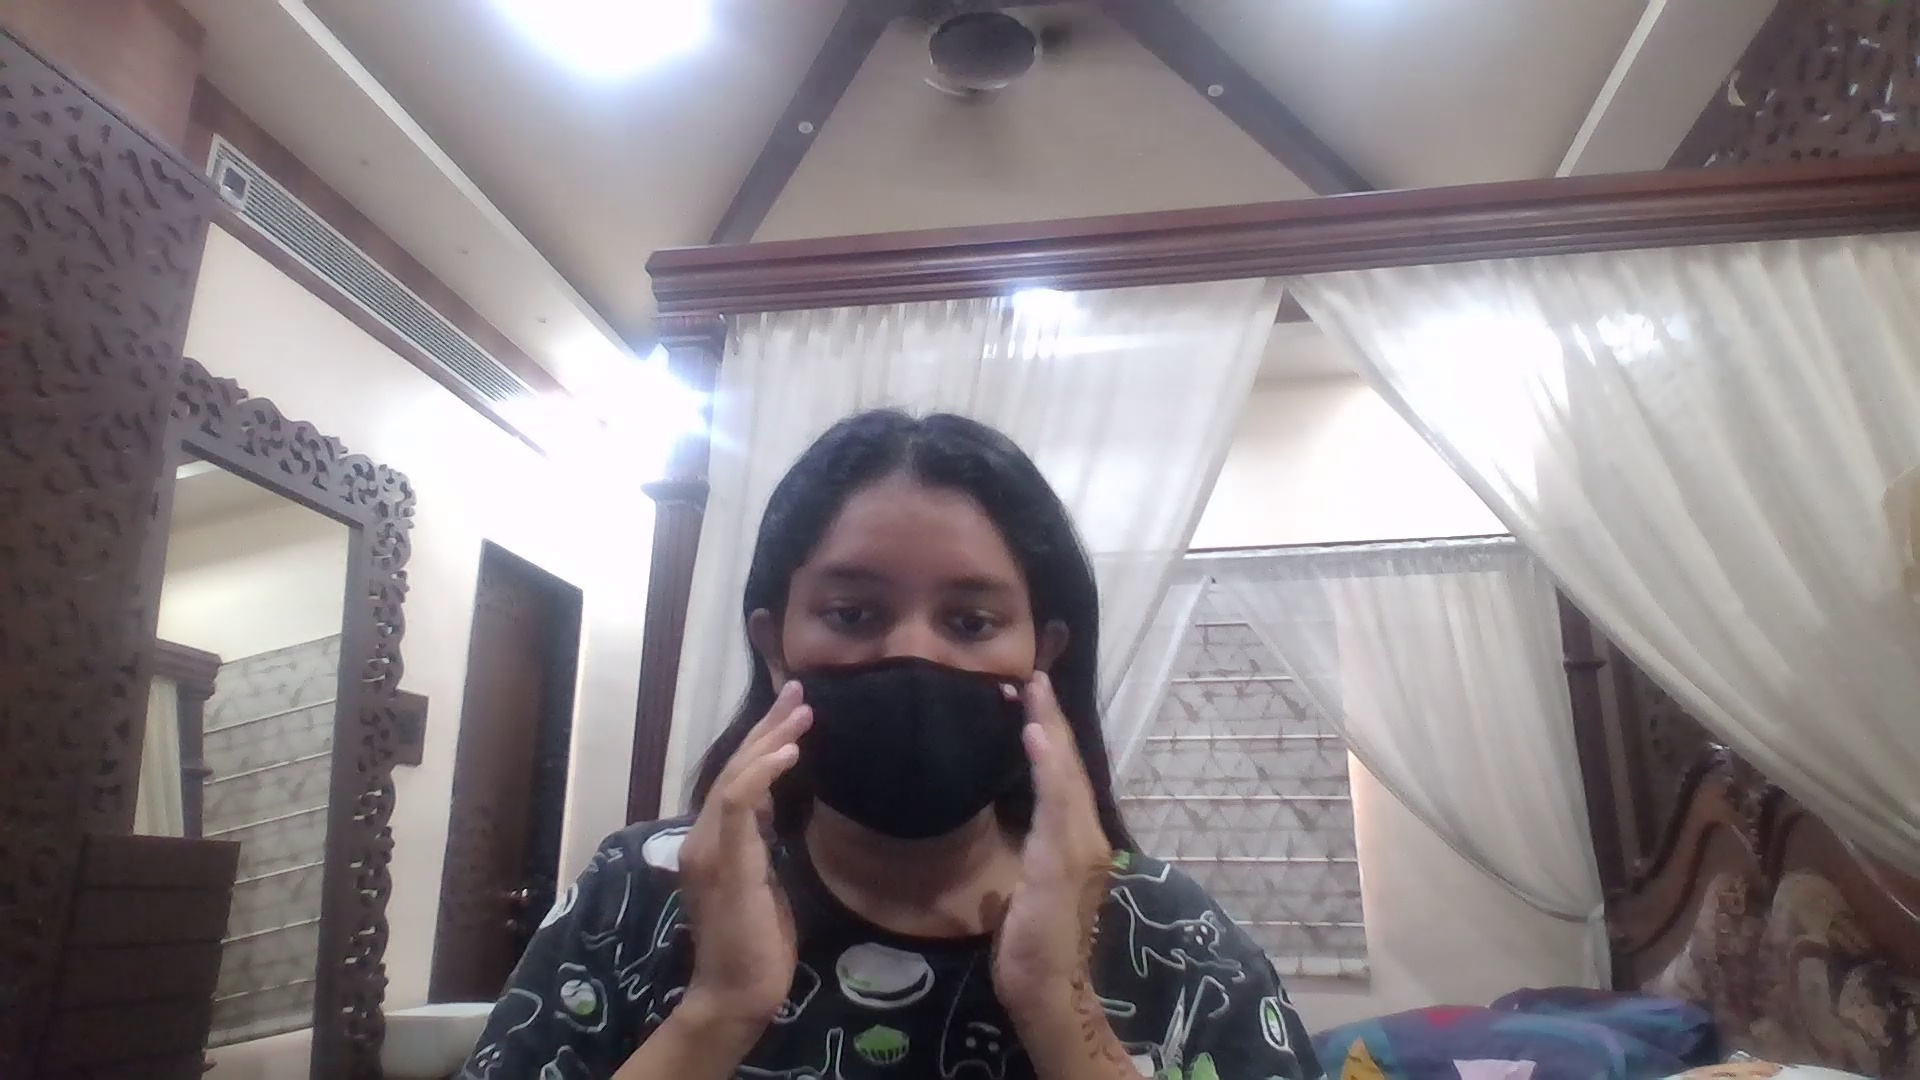Mask: (779, 648, 1045, 833)
